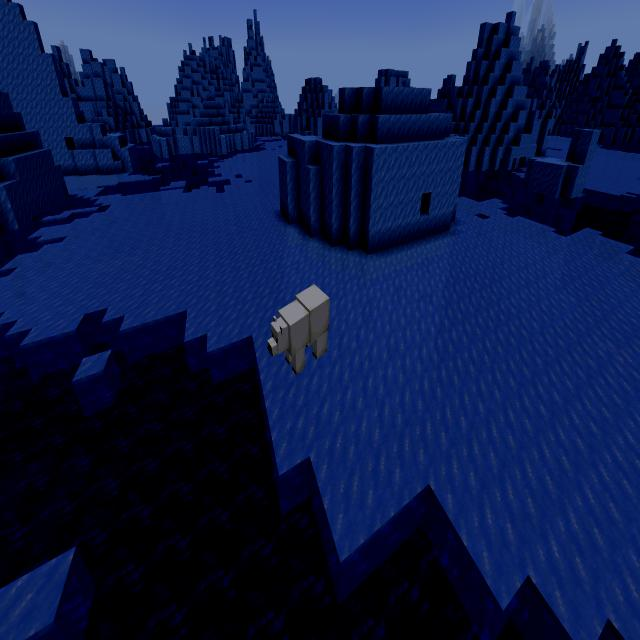Polar Bear: (256, 274, 334, 382)
